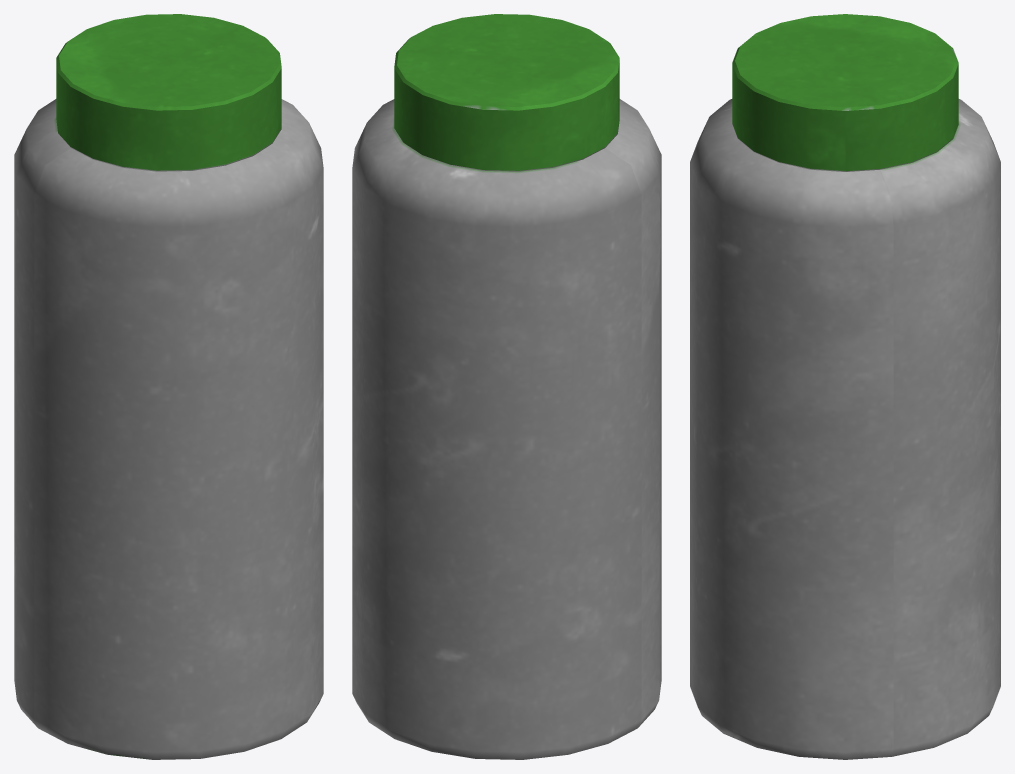
Rendered from SM_Bottle_15.fbx.
3 renders of one model, left to right at view 1: azimuth 30°, elevation 25°; view 2: azimuth 150°, elevation 25°; view 3: azimuth 270°, elevation 25°, orthographic.
Visible parts, largest first — view 1: SM_Bottle_15_LOD0; view 2: SM_Bottle_15_LOD0; view 3: SM_Bottle_15_LOD0.
Boxes of the visible parts, box(x1,y1,x2,y2) form: SM_Bottle_15_LOD0: box(14, 14, 323, 759); SM_Bottle_15_LOD0: box(352, 14, 661, 759); SM_Bottle_15_LOD0: box(690, 14, 1000, 759).
Size of the model in its own units: 7.24 by 7.24 by 16.44.
1 material, 1 textured.
